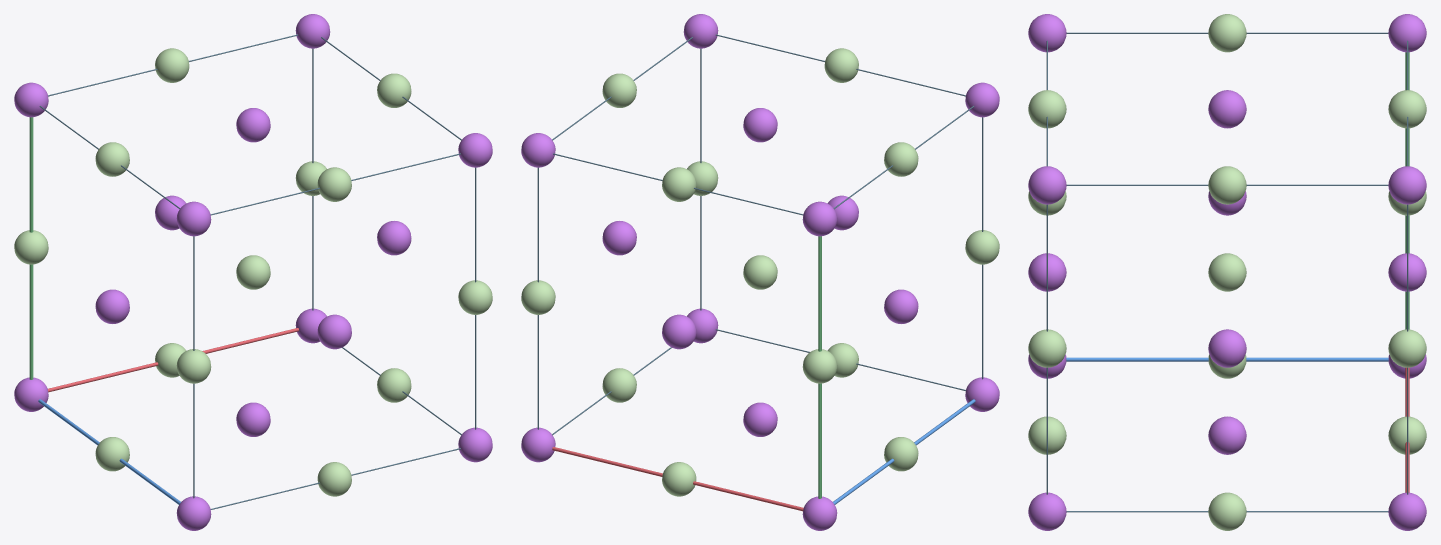
File: chat-lithium-iodide.glb
3 renders of one model, left to right at view 1: azimuth 30°, elevation 25°; view 2: azimuth 150°, elevation 25°; view 3: azimuth 270°, elevation 25°, orthographic. The views are drawn at different scales.
Parts seen in each view (by area): view 1: Li1 · Li · 1 (×14), I1 · I · 1 (×13), Ô mạng và các trục a, b, c; view 2: Li1 · Li · 1 (×14), I1 · I · 1 (×13), Ô mạng và các trục a, b, c; view 3: Li1 · Li · 1 (×11), I1 · I · 1 (×10), Ô mạng và các trục a, b, c.
Part boxes in pixels (x1,y1,x2,y2): Li1 · Li · 1 (×14): [14, 14, 492, 530]; I1 · I · 1 (×13): [14, 48, 492, 496]; Ô mạng và các trục a, b, c: [29, 34, 476, 509]; Li1 · Li · 1 (×14): [521, 14, 999, 530]; I1 · I · 1 (×13): [521, 48, 999, 496]; Ô mạng và các trục a, b, c: [537, 34, 983, 511]; Li1 · Li · 1 (×11): [1028, 14, 1426, 530]; I1 · I · 1 (×10): [1028, 14, 1426, 530]; Ô mạng và các trục a, b, c: [1046, 32, 1409, 512].
Size of the model in its own units: 6.64 by 6.64 by 6.64.
